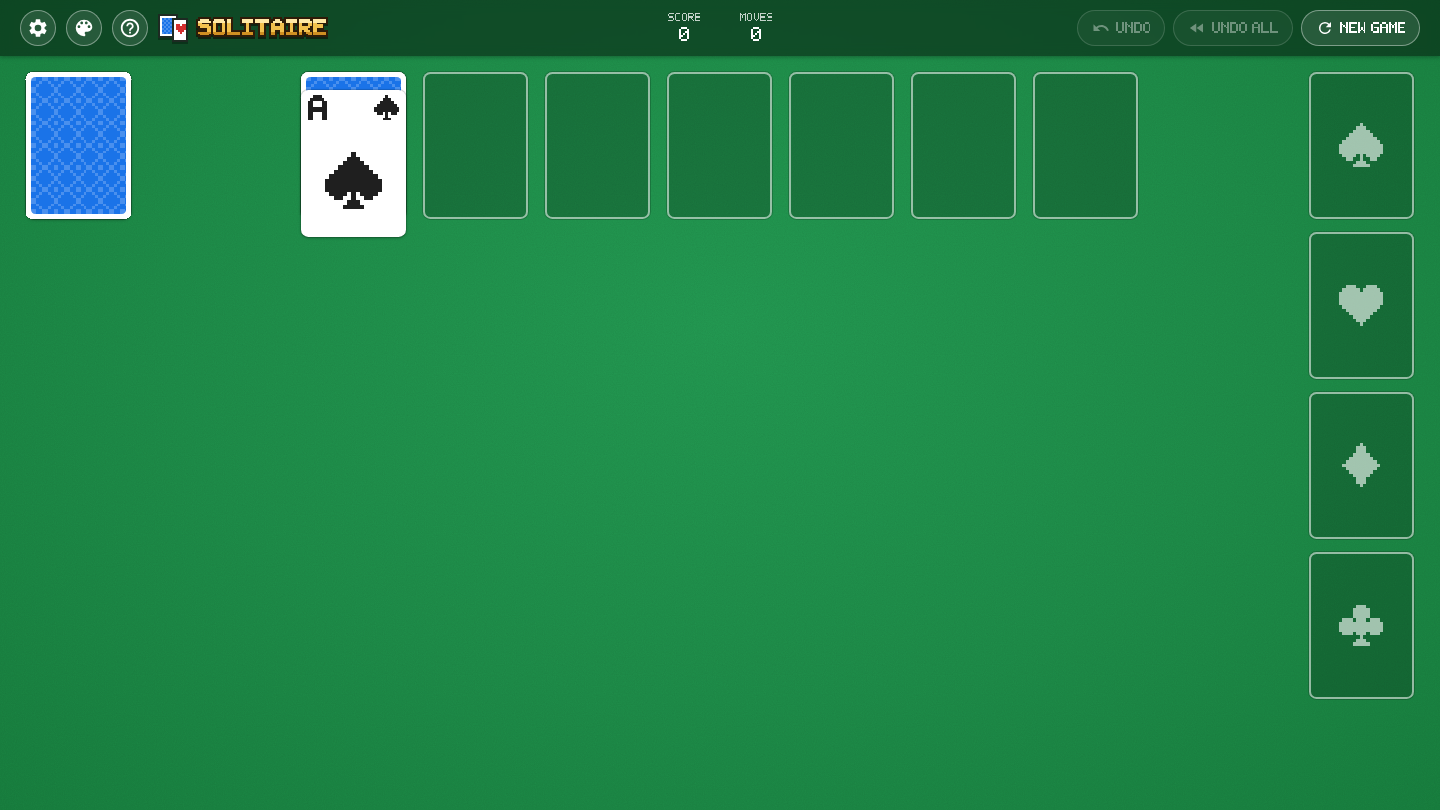
drag and drop › animates a face-up flip when a card is turned over
Click the button named "A of spades" at (354, 163), box [301, 90, 406, 237]
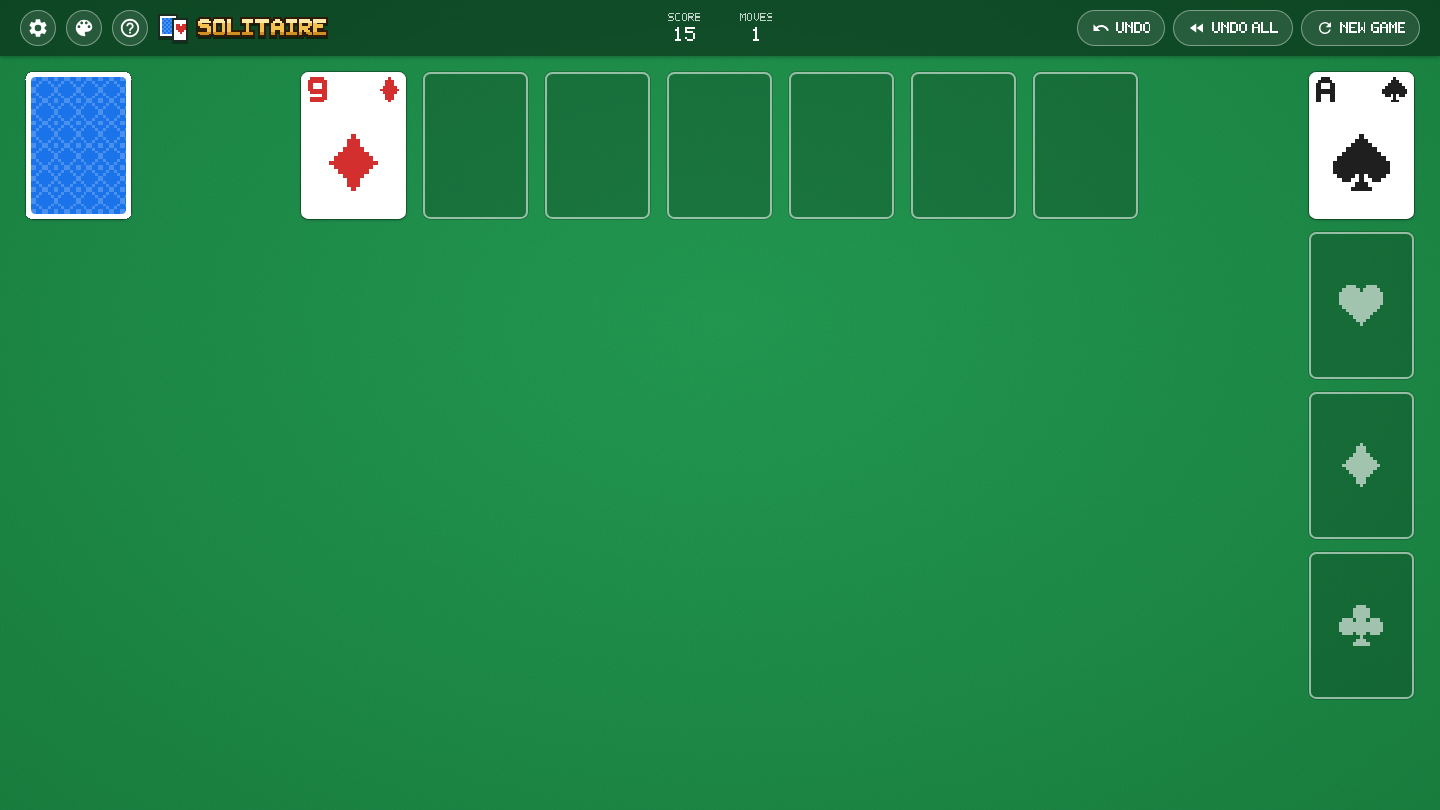
Result: the button named "9 of diamonds" is shown at [301, 72, 406, 219]
